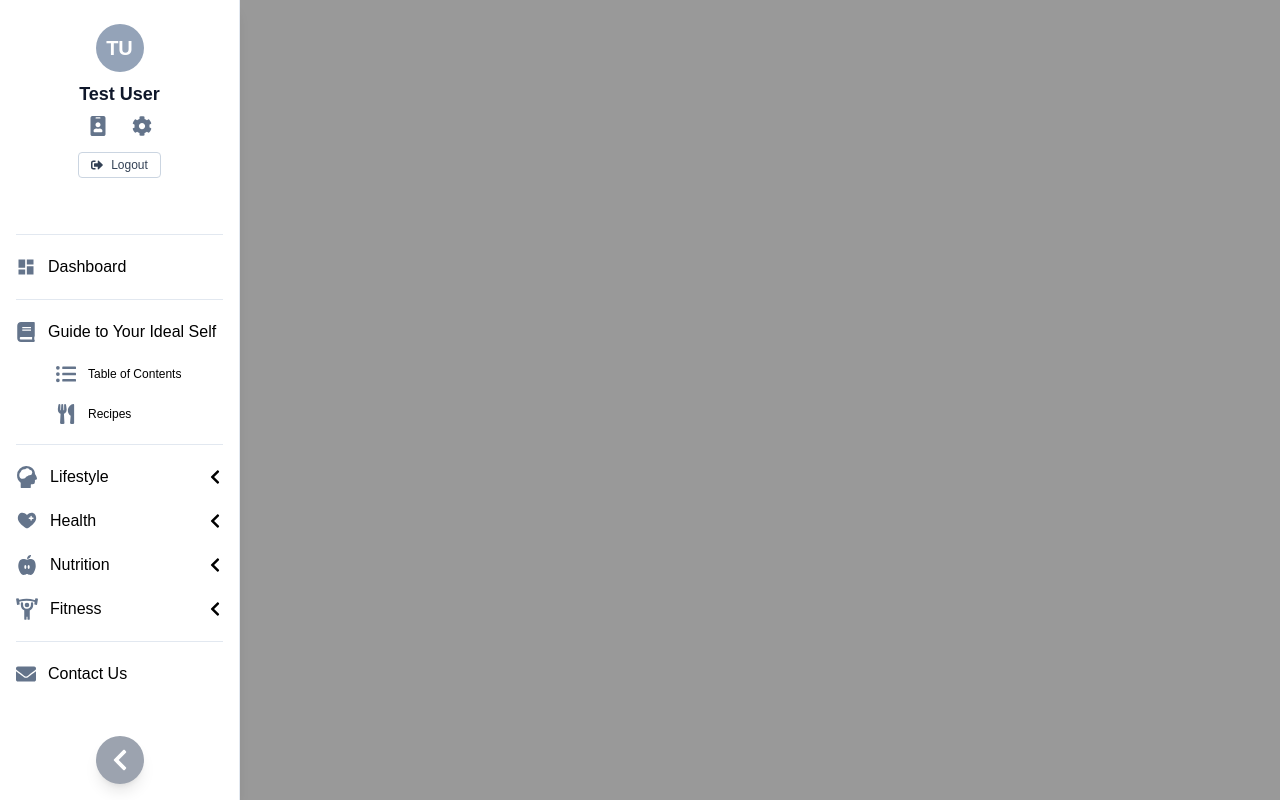
Test case: UserSidebar Component › expands nutrition section when clicked
Click the button "Nutrition": [120, 565] box 8,545 -> 231,585
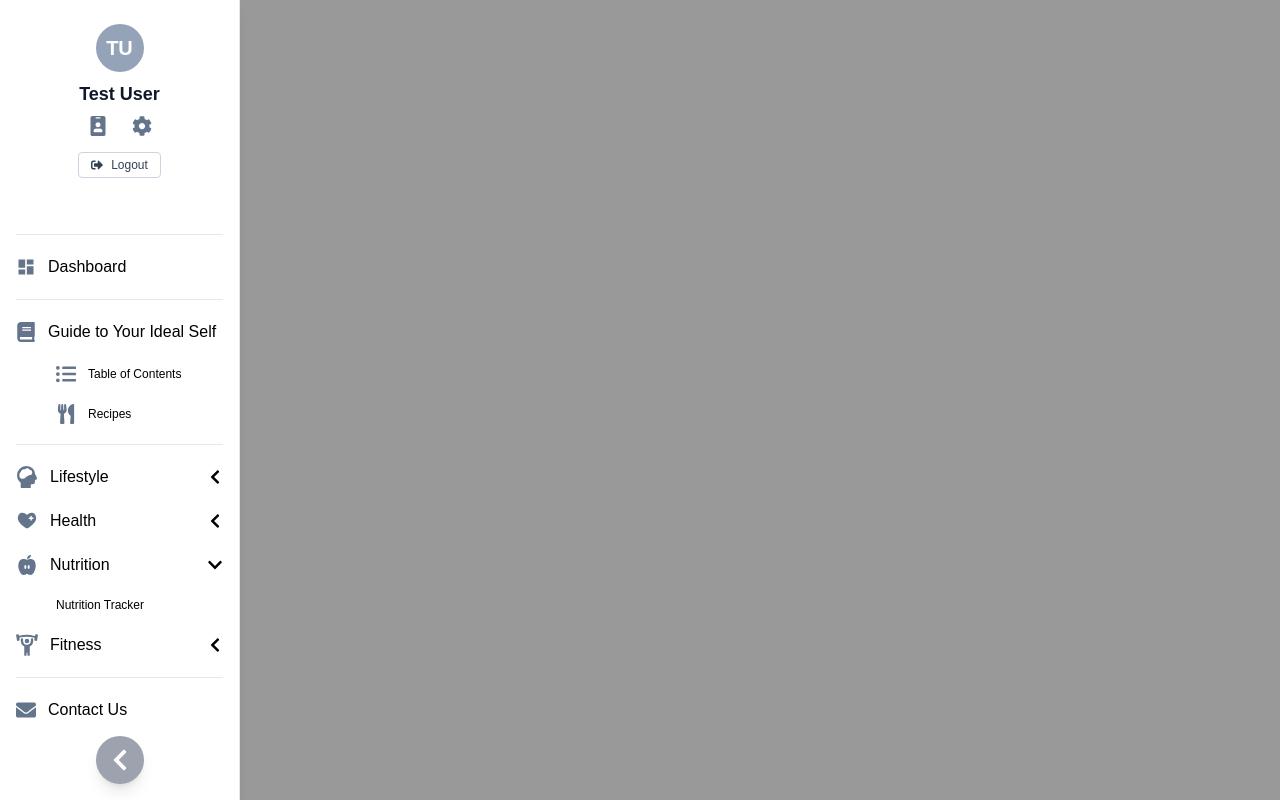
Result: the text "Nutrition Tracker" is shown at 56,598 -> 144,612
